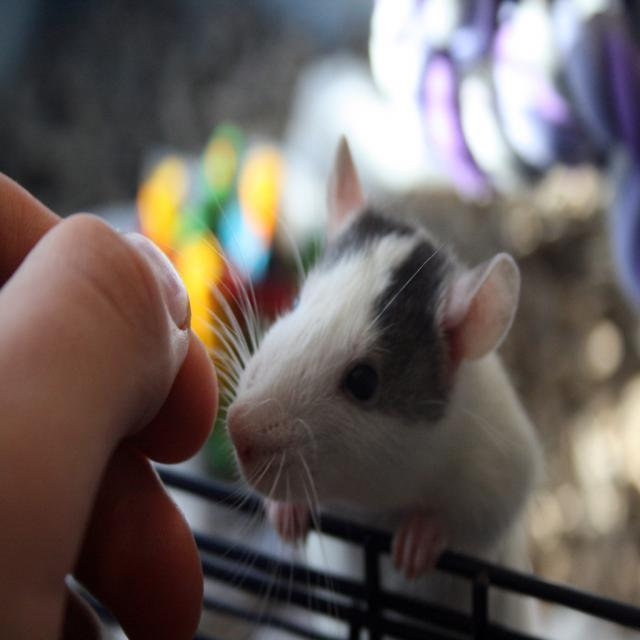rat: (202, 133, 544, 640)
